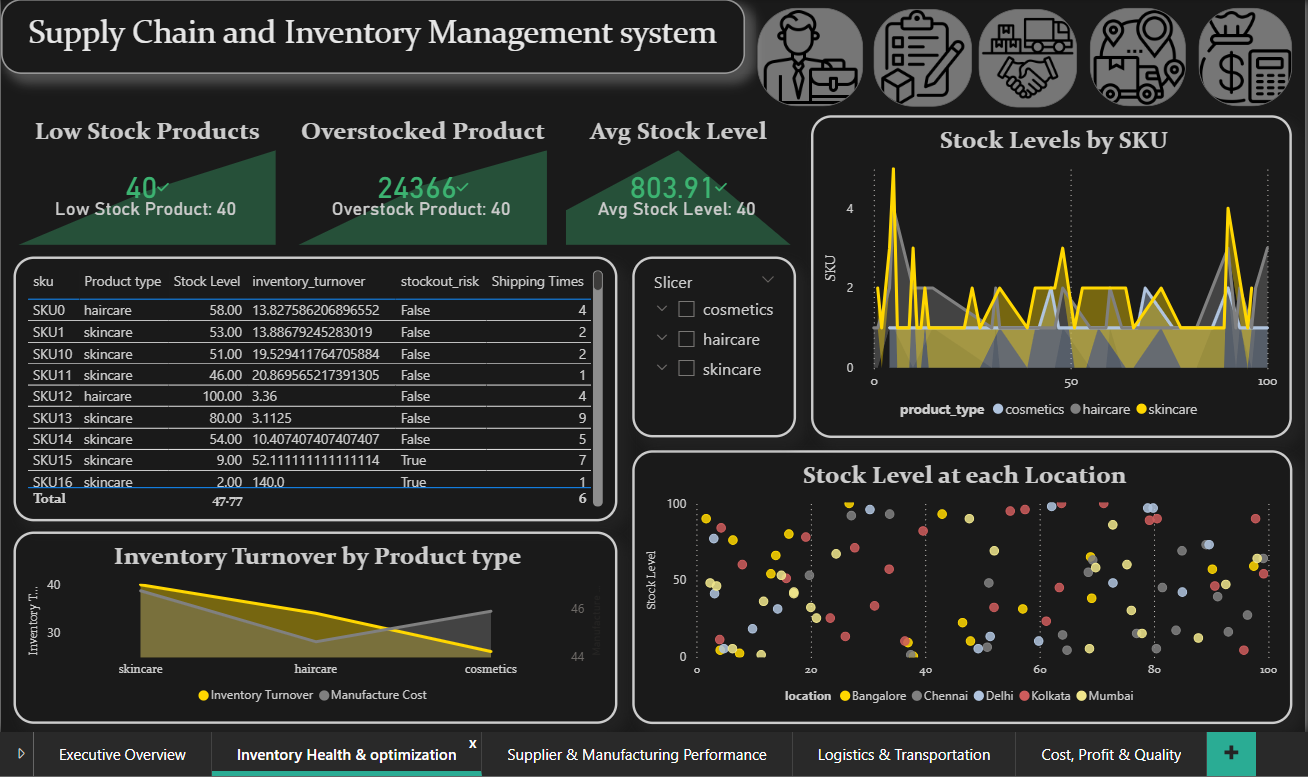

The page's visual inventory and layout, read from the dashboard file:
{"tool":"powerbi","page":{"name":"Inventory Health & optimization","canvas":[1280,720],"ordinal":1},"visuals":[{"type":"textbox","box":[0,0,730.1,73.6],"z":0},{"type":"actionButton","box":[780.4,0,452.8,114.1],"z":1000},{"type":"image","box":[742.3,8.6,104.3,96.9],"z":2000},{"type":"image","box":[856.4,9.8,96.9,95.7],"z":3000},{"type":"image","box":[959.5,9.8,96.9,96.9],"z":4000},{"type":"image","box":[1068.7,8.6,94.5,96.9],"z":5000},{"type":"image","box":[1175.5,8.6,92,96.9],"z":6000},{"type":"kpi","title":"Low Stock Products","fields":{"Indicator":["Count(Supply_chain_bi_data.sku)"],"TrendLine":["Supply_chain_bi_data.product_type"],"Goal":["Count(Supply_chain_bi_data.sku)"]},"box":[12.3,114.1,262.6,132.5],"z":7000},{"type":"kpi","title":"Overstocked Product","fields":{"TrendLine":["Supply_chain_bi_data.product_type"],"Goal":["CountNonNull(Supply_chain_bi_data.sku)"],"Indicator":["Sum(Supply_chain_bi_data.production_volumes)"]},"box":[287.1,114.1,254,132.5],"z":8000},{"type":"kpi","title":"Avg Stock Level","fields":{"Indicator":["Sum(Supply_chain_bi_data.stock_levels)"],"TrendLine":["Supply_chain_bi_data.product_type"],"Goal":["Count(Supply_chain_bi_data.sku)"]},"box":[549.7,114.1,230.7,132.5],"z":9000},{"type":"stackedAreaChart","title":"Stock Levels by SKU","fields":{"Category":["Supply_chain_bi_data.stock_levels"],"Y":["Count(Supply_chain_bi_data.sku)"],"Series":["Supply_chain_bi_data.product_type"]},"box":[795.1,114.1,472.4,316.6],"z":10000},{"type":"tableEx","fields":{"Values":["Supply_chain_bi_data.sku","Supply_chain_bi_data.product_type","Avg(Supply_chain_bi_data.stock_levels)","Supply_chain_bi_data.inventory_turnover","Supply_chain_bi_data.stockout_risk","Median(Supply_chain_bi_data.shipping_times)"]},"box":[12.3,252.8,592.6,260.1],"z":11000},{"type":"areaChart","title":"Inventory Turnover by Product type","fields":{"Y":["Count(Supply_chain_bi_data.inventory_turnover)"],"Category":["Supply_chain_bi_data.product_type"],"Y2":["Median(Supply_chain_bi_data.manufacturing_costs)"]},"box":[12.3,522.7,592.6,189],"z":12000},{"type":"scatterChart","title":"Stock Level at each Location","fields":{"Y":["Sum(Supply_chain_bi_data.stock_levels)"],"Category":["Supply_chain_bi_data.sku"],"X":["Avg(Supply_chain_bi_data.price)"],"Series":["Supply_chain_bi_data.location"]},"box":[619.6,442.9,647.9,268.7],"z":13000},{"type":"slicer","fields":{"Values":["Supply_chain_bi_data.product_type","Supply_chain_bi_data.location","Supply_chain_bi_data.supplier_name"]},"box":[619.6,252.8,160.7,177.9],"z":14000}]}

Visuals, with their boxes on the page's 1280x720 design canvas (x1, y1, x2, y2). These are canvas units, not pixel positions in the 1308x777 screenshot, which may show the page scaled, cropped or inside an application window:
textbox: pyautogui.locateOnScreen(0, 0, 730, 74)
actionButton: pyautogui.locateOnScreen(780, 0, 1233, 114)
image: pyautogui.locateOnScreen(742, 9, 847, 106)
image: pyautogui.locateOnScreen(856, 10, 953, 106)
image: pyautogui.locateOnScreen(960, 10, 1056, 107)
image: pyautogui.locateOnScreen(1069, 9, 1163, 106)
image: pyautogui.locateOnScreen(1176, 9, 1268, 106)
"Low Stock Products" kpi: pyautogui.locateOnScreen(12, 114, 275, 247)
"Overstocked Product" kpi: pyautogui.locateOnScreen(287, 114, 541, 247)
"Avg Stock Level" kpi: pyautogui.locateOnScreen(550, 114, 780, 247)
"Stock Levels by SKU" stackedAreaChart: pyautogui.locateOnScreen(795, 114, 1268, 431)
tableEx - Supply_chain_bi_data.sku x Supply_chain_bi_data.product_type: pyautogui.locateOnScreen(12, 253, 605, 513)
"Inventory Turnover by Product type" areaChart: pyautogui.locateOnScreen(12, 523, 605, 712)
"Stock Level at each Location" scatterChart: pyautogui.locateOnScreen(620, 443, 1268, 712)
slicer - Supply_chain_bi_data.product_type x Supply_chain_bi_data.location: pyautogui.locateOnScreen(620, 253, 780, 431)
